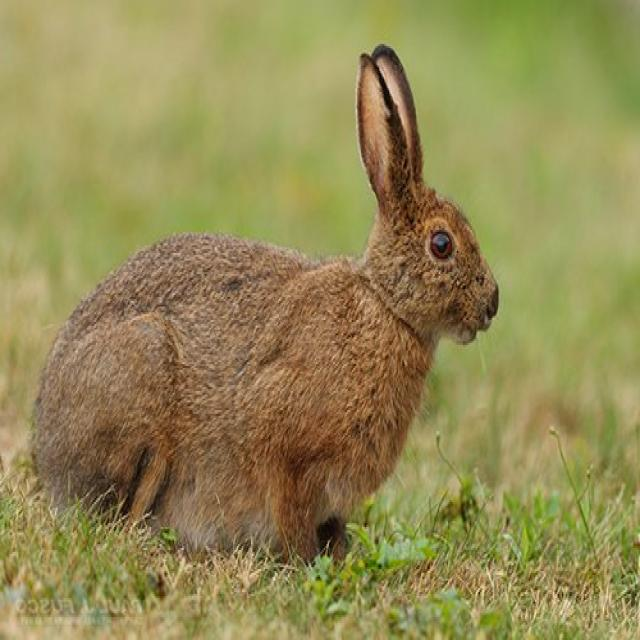hare: (33, 44, 499, 560)
